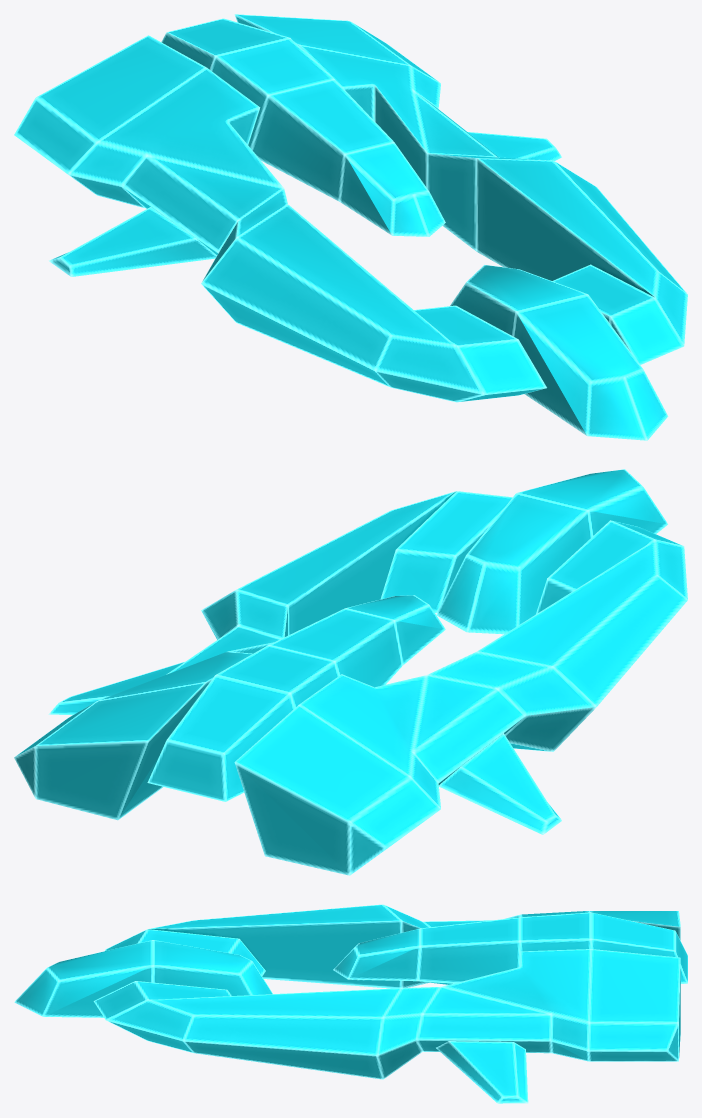
Rendered from ally_corvette.FBX.
3 renders of one model, top to bottom at view 1: azimuth 30°, elevation 25°; view 2: azimuth 150°, elevation 25°; view 3: azimuth 270°, elevation 25°, orthographic. The views are drawn at different scales.
Parts seen in each view (by area): view 1: Corvette_player; view 2: Corvette_player; view 3: Corvette_player.
Part boxes in pixels (box(x1,y1,x2,y2)): Corvette_player: box(14, 14, 687, 440); Corvette_player: box(14, 469, 687, 875); Corvette_player: box(14, 904, 687, 1103).
Bounding box in the file's own units: 54.84 × 14.09 × 88.52.
